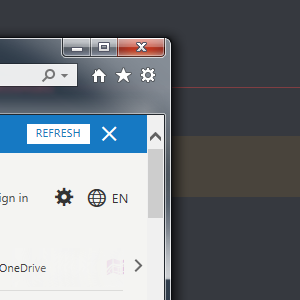close: (117, 38, 164, 58), (97, 122, 121, 144)
